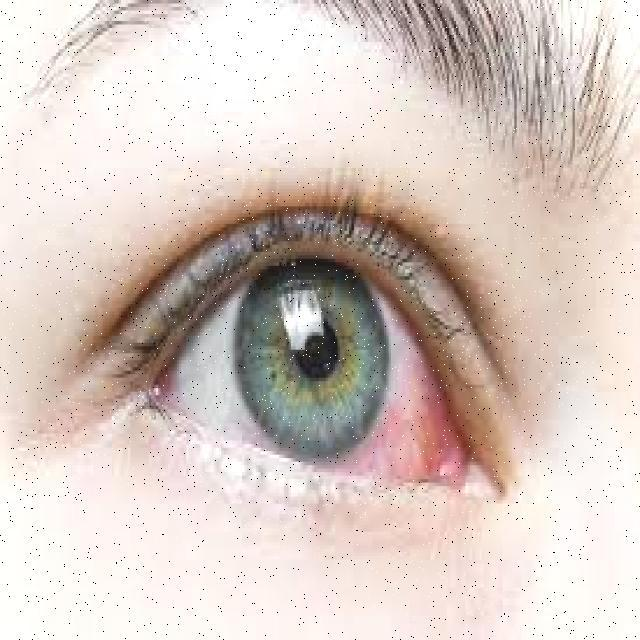Conjunctivitis: (302, 338, 530, 502)
